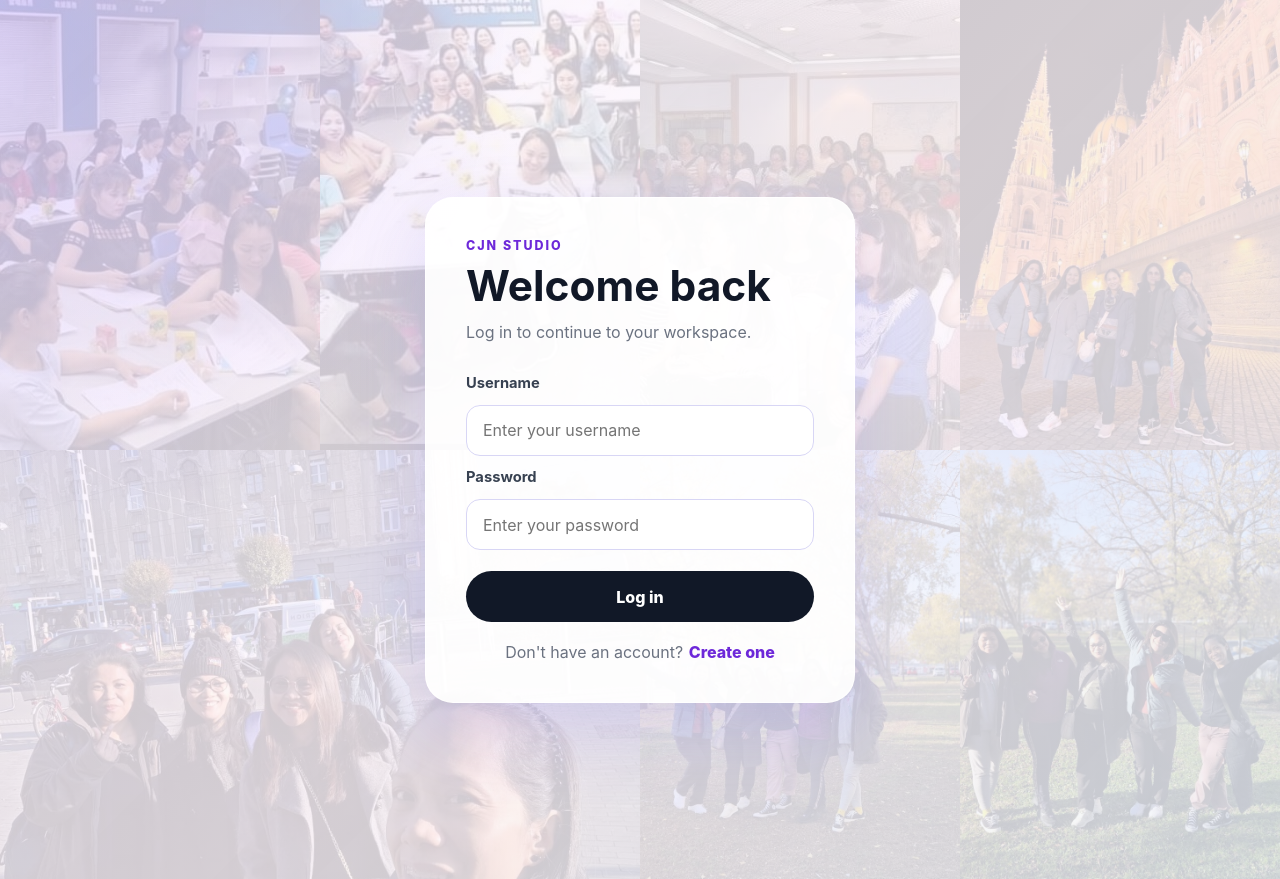
it: dynamically searches applicants and suggests matching names
In the field labelled "Username": (640, 430) [466, 405, 814, 456], type "wendell"
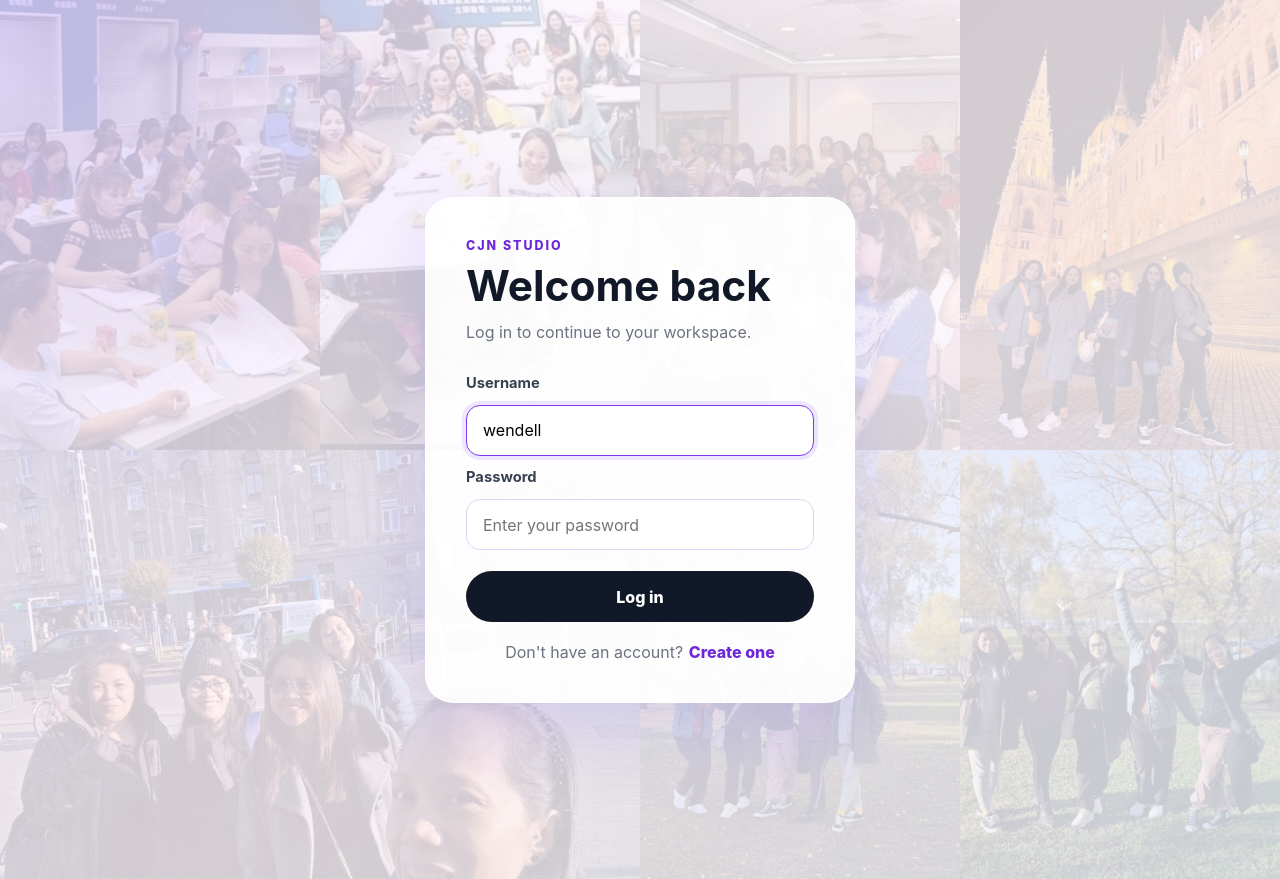
In the password field labelled "Password": (640, 524) [466, 499, 814, 550], type "password123"
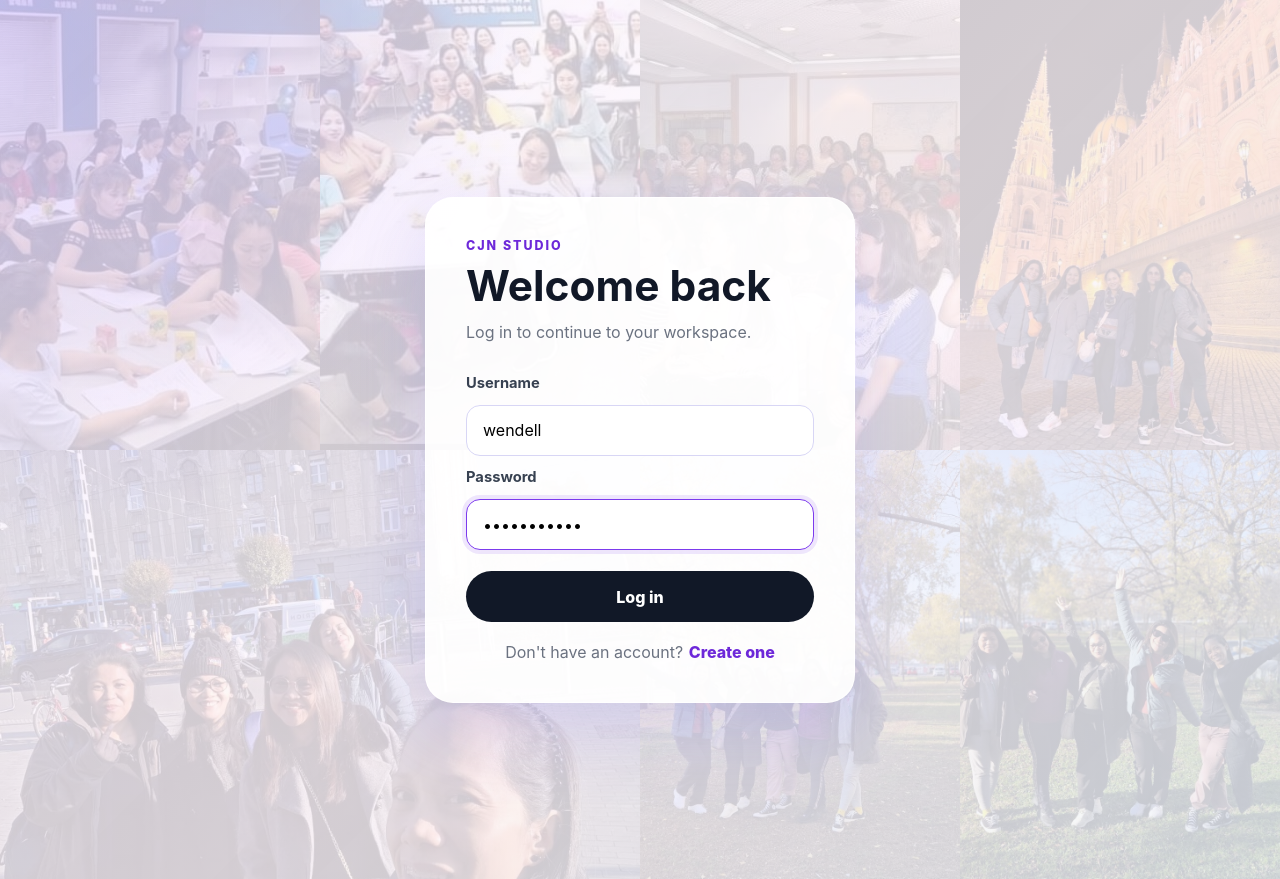
Click the button "Log in": (640, 597) [466, 572, 814, 622]
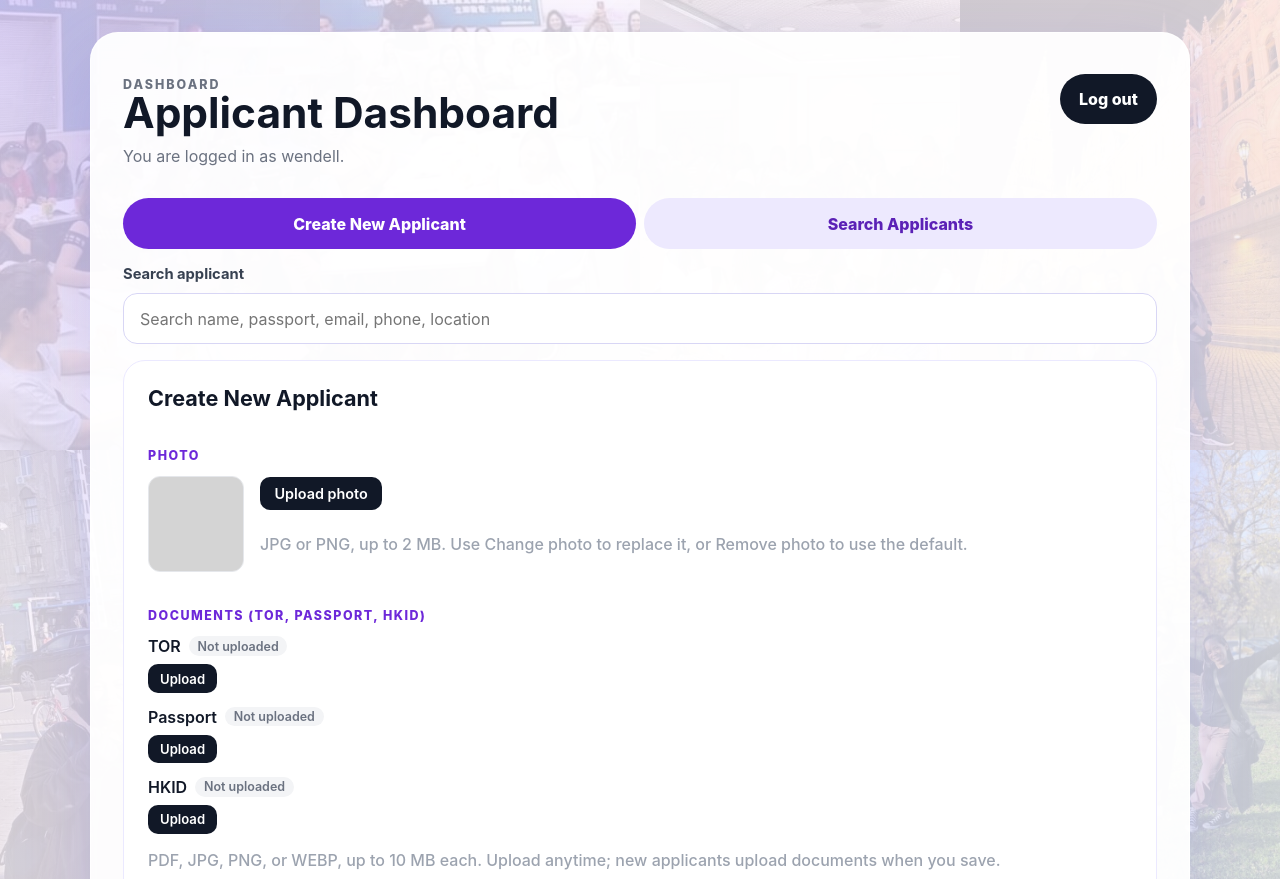
Expected: the text "Maria Santos Reyes" is not shown
In the field labelled "Search applicant": (640, 319) [123, 293, 1157, 344], type "Mar"
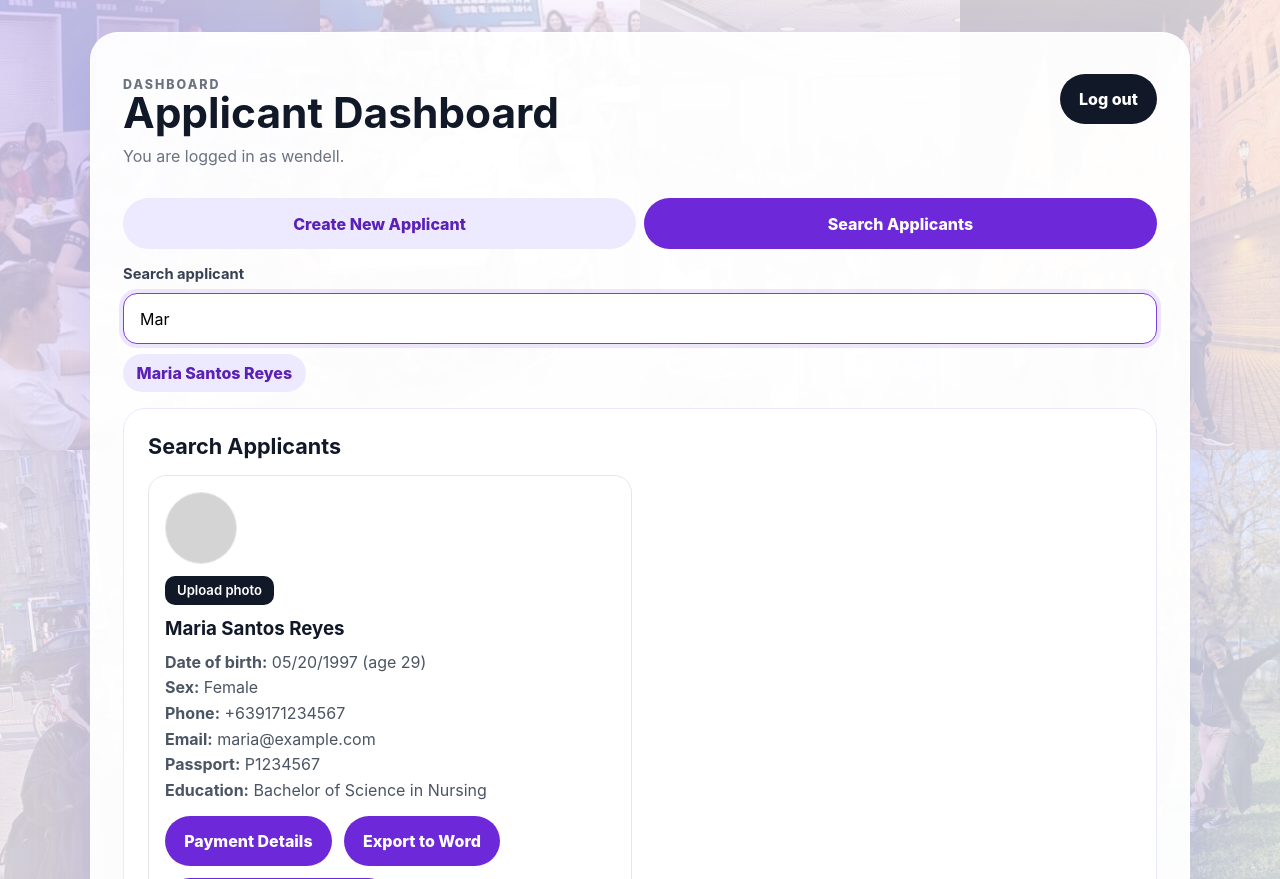
Expected: the number of buttons "Maria Santos Reyes" is 2, [123, 354, 306, 392]; [165, 617, 344, 640]
Expected: the button "Maria Santos Reyes" is shown, [123, 354, 306, 392]
